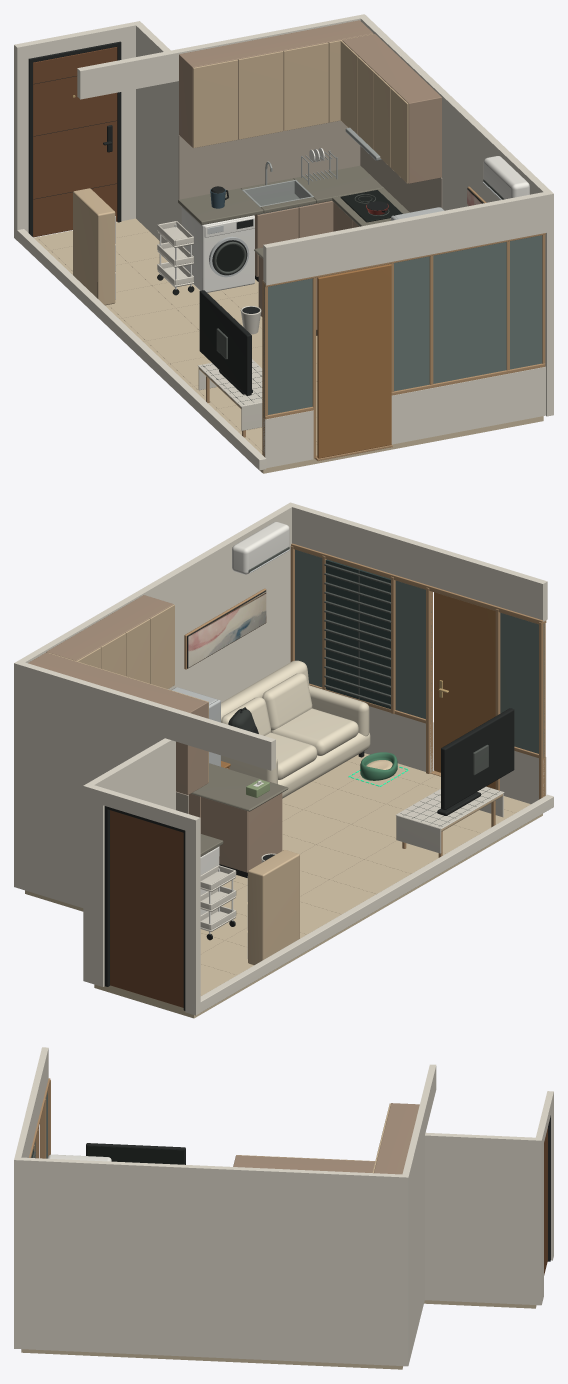
The model's file is pet-layout.glb.
The picture shows the model from 3 angles, top to bottom: view 1: azimuth 30°, elevation 25°; view 2: azimuth 150°, elevation 25°; view 3: azimuth 270°, elevation 25°; orthographic projection. The views are drawn at different scales.
Visible parts, largest first — view 1: 窗墙 · 磨砂侧窗与横格窗, 后墙 · 厨房与沙发侧, 厨房吊柜 · 左侧, 地面 · L 形轮廓与瓷砖, 内门 · 浅木色, 入户门 · 深木色, 厨房吊柜 · 后侧, 厨房防溅板, 入户门框与门楣, 水槽地柜与台面 · 左侧, 剖视 · 电视侧墙脚, 滚筒洗衣机 (+8 smaller); view 2: 后墙 · 厨房与沙发侧, 窗墙 · 磨砂侧窗与横格窗, 地面 · L 形轮廓与瓷砖, 入户门 · 深木色, 双人布艺沙发, 入户门框与门楣, 内门 · 浅木色, 厨房吊柜 · 后侧, 半岛操作台, 剖视 · 电视侧墙脚, 入口三层鞋柜, 壁挂平板电视 (+7 smaller); view 3: 后墙 · 厨房与沙发侧, 入户门框与门楣, 窗墙 · 磨砂侧窗与横格窗, 厨房吊柜 · 左侧, 地面 · L 形轮廓与瓷砖, 厨房吊柜 · 后侧, 壁挂平板电视, 入户门 · 深木色.
Boxes of the visible parts, x1=… form: 窗墙 · 磨砂侧窗与横格窗: x1=262, y1=192, x2=546, y2=467; 后墙 · 厨房与沙发侧: x1=77, y1=14, x2=553, y2=416; 厨房吊柜 · 左侧: x1=179, y1=20, x2=373, y2=147; 地面 · L 形轮廓与瓷砖: x1=34, y1=218, x2=543, y2=473; 内门 · 浅木色: x1=317, y1=264, x2=391, y2=458; 入户门 · 深木色: x1=33, y1=47, x2=117, y2=237; 厨房吊柜 · 后侧: x1=340, y1=34, x2=441, y2=183; 厨房防溅板: x1=178, y1=120, x2=442, y2=212; 入户门框与门楣: x1=14, y1=21, x2=142, y2=240; 水槽地柜与台面 · 左侧: x1=178, y1=165, x2=383, y2=281; 剖视 · 电视侧墙脚: x1=14, y1=228, x2=266, y2=470; 滚筒洗衣机: x1=181, y1=207, x2=254, y2=292; 后墙 · 厨房与沙发侧: x1=14, y1=502, x2=296, y2=907; 窗墙 · 磨砂侧窗与横格窗: x1=290, y1=504, x2=547, y2=803; 地面 · L 形轮廓与瓷砖: x1=25, y1=753, x2=542, y2=1018; 入户门 · 深木色: x1=110, y1=810, x2=183, y2=1007; 双人布艺沙发: x1=221, y1=660, x2=370, y2=798; 入户门框与门楣: x1=83, y1=783, x2=200, y2=1015; 内门 · 浅木色: x1=434, y1=592, x2=495, y2=789; 厨房吊柜 · 后侧: x1=46, y1=595, x2=174, y2=688; 半岛操作台: x1=189, y1=763, x2=288, y2=877; 剖视 · 电视侧墙脚: x1=189, y1=794, x2=553, y2=1012; 入口三层鞋柜: x1=247, y1=850, x2=299, y2=965; 壁挂平板电视: x1=441, y1=708, x2=514, y2=809; 后墙 · 厨房与沙发侧: x1=14, y1=1064, x2=535, y2=1366; 入户门框与门楣: x1=535, y1=1091, x2=553, y2=1305; 窗墙 · 磨砂侧窗与横格窗: x1=15, y1=1047, x2=50, y2=1158; 厨房吊柜 · 左侧: x1=372, y1=1103, x2=419, y2=1174; 地面 · L 形轮廓与瓷砖: x1=21, y1=1300, x2=536, y2=1369; 厨房吊柜 · 后侧: x1=233, y1=1155, x2=375, y2=1172; 壁挂平板电视: x1=86, y1=1143, x2=185, y2=1164; 入户门 · 深木色: x1=544, y1=1128, x2=547, y2=1275.
Bounding box in the file's own units: 3.78 × 2.58 × 6.48.
31 materials, 1 textured.
